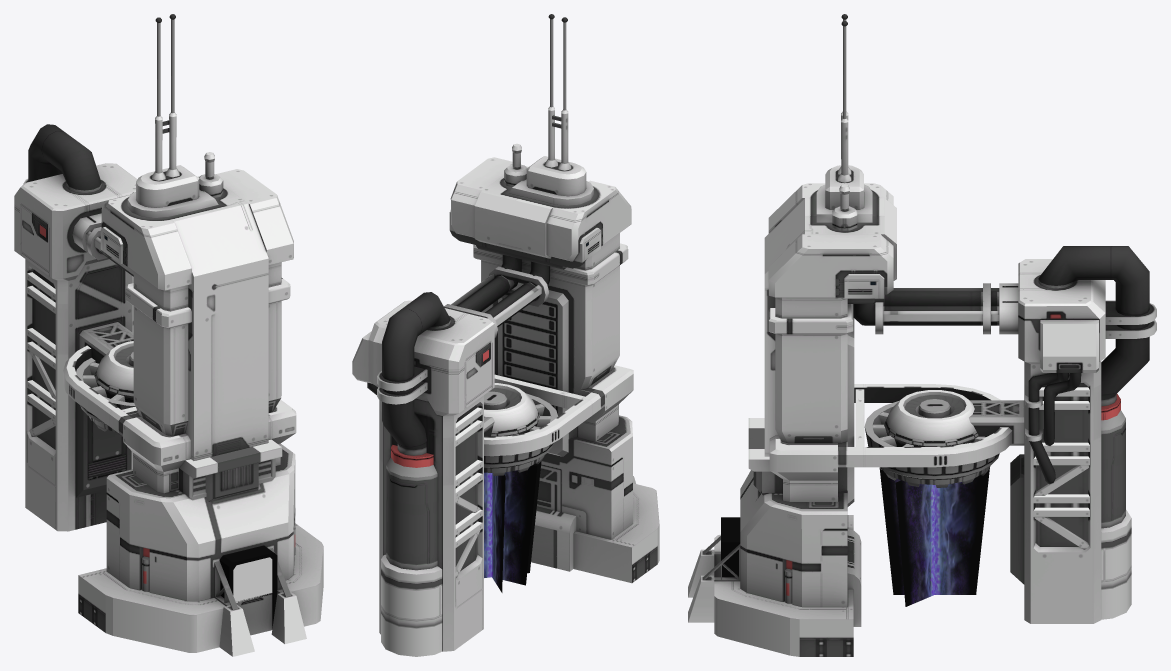
The model's file is oil-extractor.glb.
3 views of the same model, side by side, from view 1: azimuth 30°, elevation 25°; view 2: azimuth 150°, elevation 25°; view 3: azimuth 270°, elevation 25° (orthographic). The views are drawn at different scales.
Parts seen in each view (by area): view 1: oil-extractor; view 2: oil-extractor, oil-extractor-g; view 3: oil-extractor, oil-extractor-g, oil-extractor-d.
Part boxes in pixels (x1=…): oil-extractor: x1=14, y1=14, x2=323, y2=656; oil-extractor: x1=352, y1=14, x2=659, y2=656; oil-extractor-g: x1=484, y1=461, x2=541, y2=592; oil-extractor: x1=688, y1=14, x2=1156, y2=656; oil-extractor-g: x1=879, y1=468, x2=989, y2=606; oil-extractor-d: x1=879, y1=465, x2=990, y2=487.
Bounding box in the file's own units: 6.51 × 16.7 × 12.35.
Materials: 4 (3 with a texture image).
